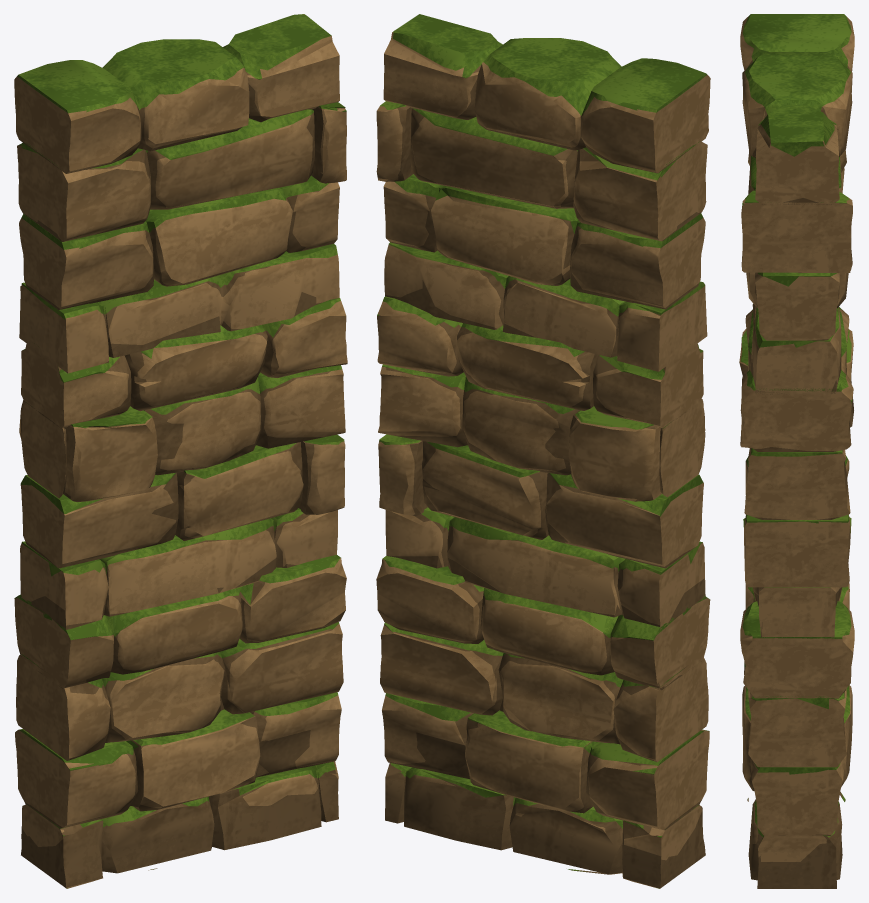
File: mossy_sandstone_wall.glb
The picture shows the model from 3 angles, left to right: view 1: azimuth 30°, elevation 25°; view 2: azimuth 150°, elevation 25°; view 3: azimuth 270°, elevation 25°; orthographic projection. The views are drawn at different scales.
Visible parts, largest first — view 1: MossySandstoneWall; view 2: MossySandstoneWall; view 3: MossySandstoneWall.
Boxes of the visible parts, x1,y1,x2,y2 form: MossySandstoneWall: [14, 14, 347, 888]; MossySandstoneWall: [376, 14, 710, 888]; MossySandstoneWall: [739, 14, 854, 888].
Size of the model in its own units: 1 by 2.71 by 0.3785.
3 materials, 3 textured.
